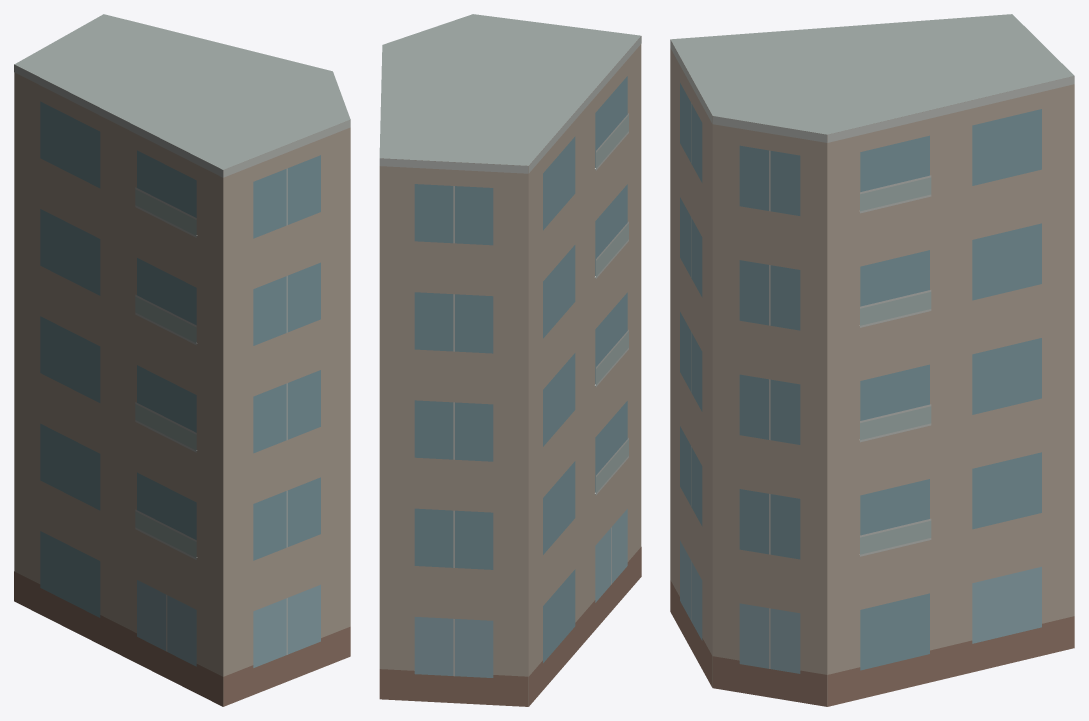
The model's file is survey-upis-32975004.glb.
3 renders of one model, left to right at view 1: azimuth 30°, elevation 25°; view 2: azimuth 150°, elevation 25°; view 3: azimuth 270°, elevation 25°, orthographic. The views are drawn at different scales.
Parts seen in each view (by area): view 1: survey-upis-32975004.tmp; view 2: survey-upis-32975004.tmp; view 3: survey-upis-32975004.tmp.
Boxes of the visible parts, x1,y1,x2,y2 form: survey-upis-32975004.tmp: (14, 14, 350, 706); survey-upis-32975004.tmp: (379, 14, 641, 706); survey-upis-32975004.tmp: (670, 14, 1074, 706).
Bounding box in the file's own units: 7.58 × 16.74 × 10.73.
